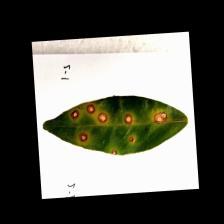canker: (41, 78, 182, 162)
